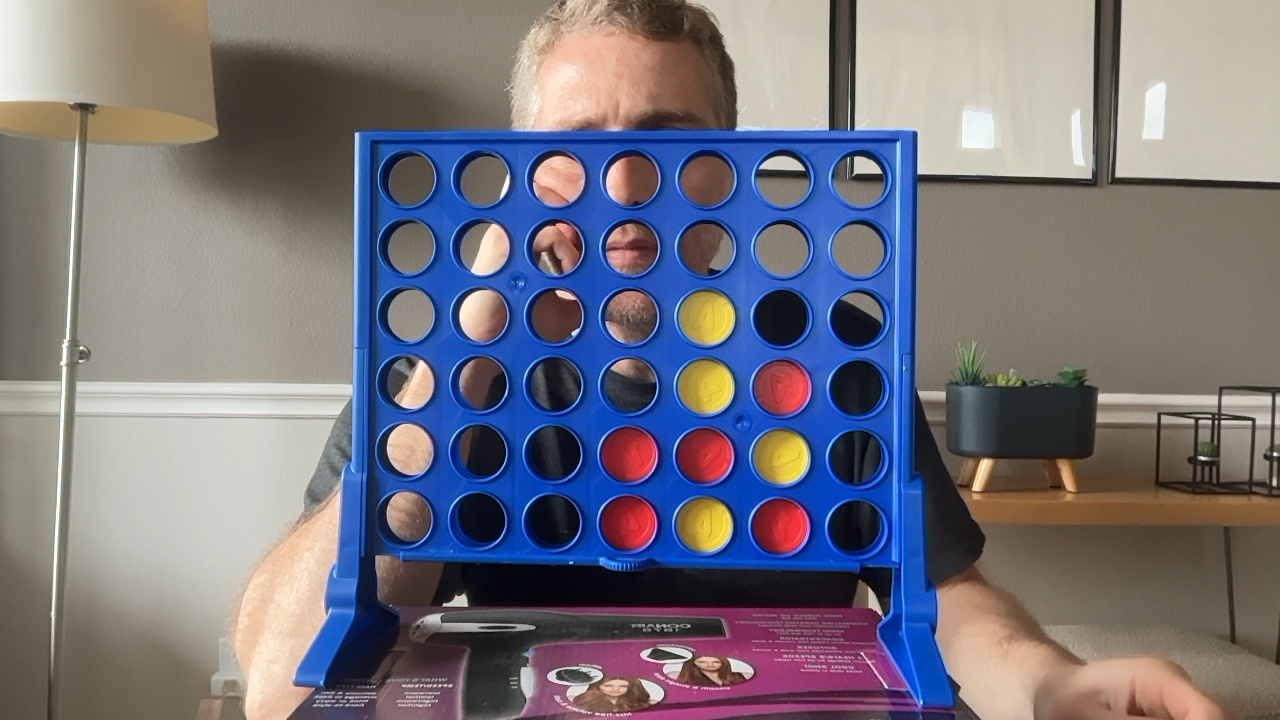red piece: (676, 427, 733, 483), (600, 426, 657, 482), (752, 498, 809, 554), (753, 360, 811, 415), (600, 497, 657, 551)
yellow piece: (677, 290, 735, 346), (677, 358, 734, 414), (752, 429, 810, 484), (676, 497, 732, 552)
